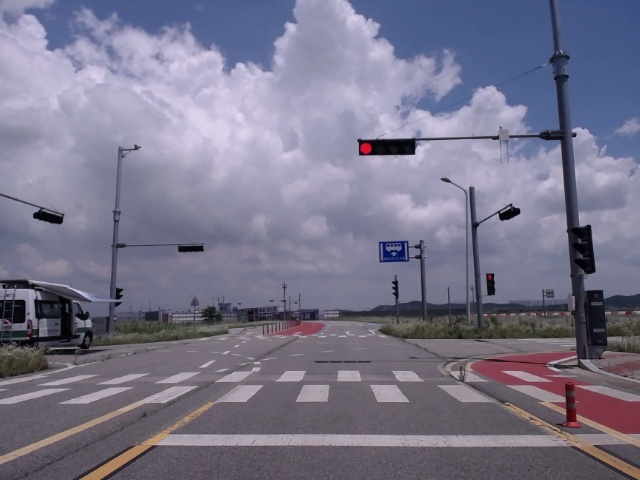red_4: (357, 139, 415, 155)
